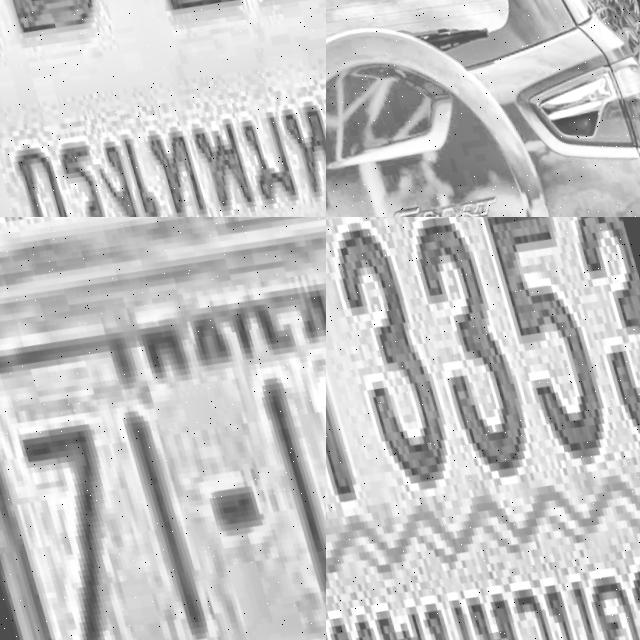license-plate: (0, 217, 326, 640), (326, 217, 640, 640), (0, 0, 326, 217)
